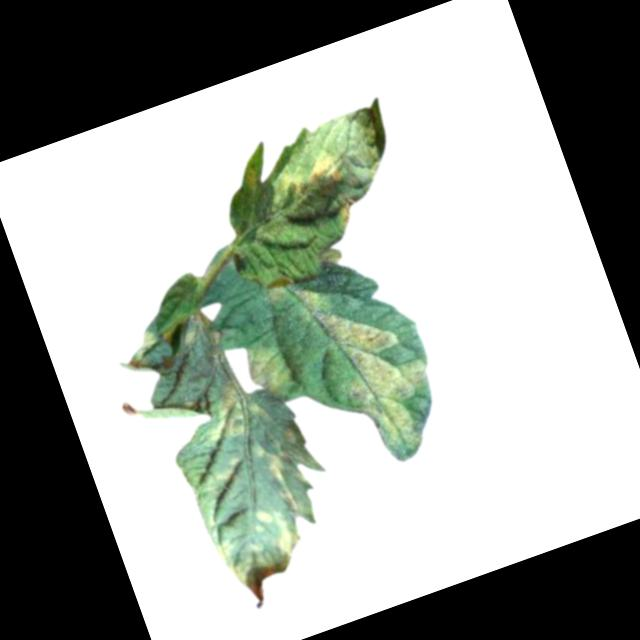Leaf_Mold: (291, 255, 451, 468), (205, 501, 300, 585), (258, 424, 320, 515), (264, 149, 346, 212), (192, 378, 256, 449), (236, 339, 296, 406), (330, 194, 365, 231), (260, 275, 296, 307), (237, 163, 262, 196)
